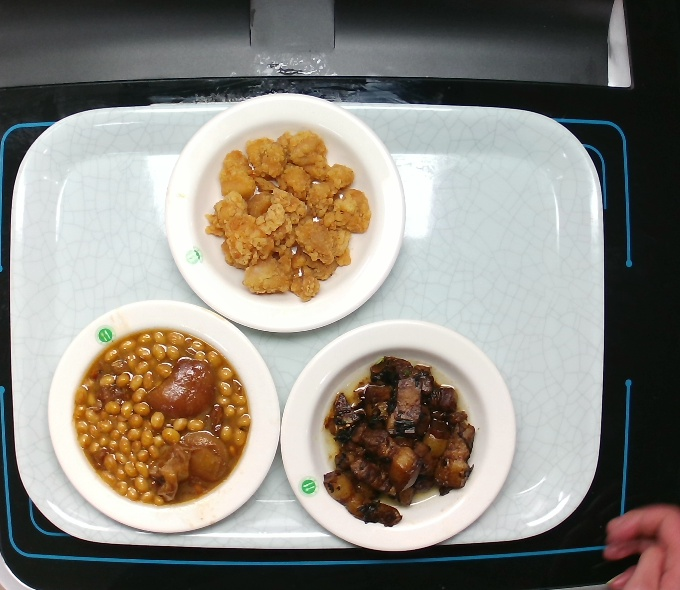wcq-GanCaiRou: (319, 351, 478, 529)
wcq-HuangDouZhuJiao: (66, 324, 254, 510)
wcq-JiMiHua: (200, 125, 374, 306)
